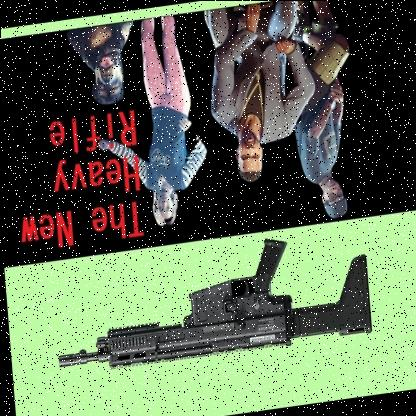rifle: (46, 226, 378, 386)
